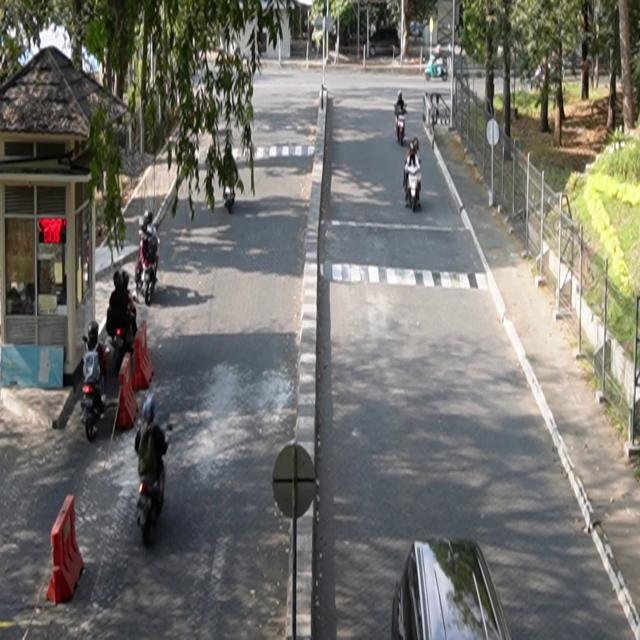car: (392, 536, 513, 640)
